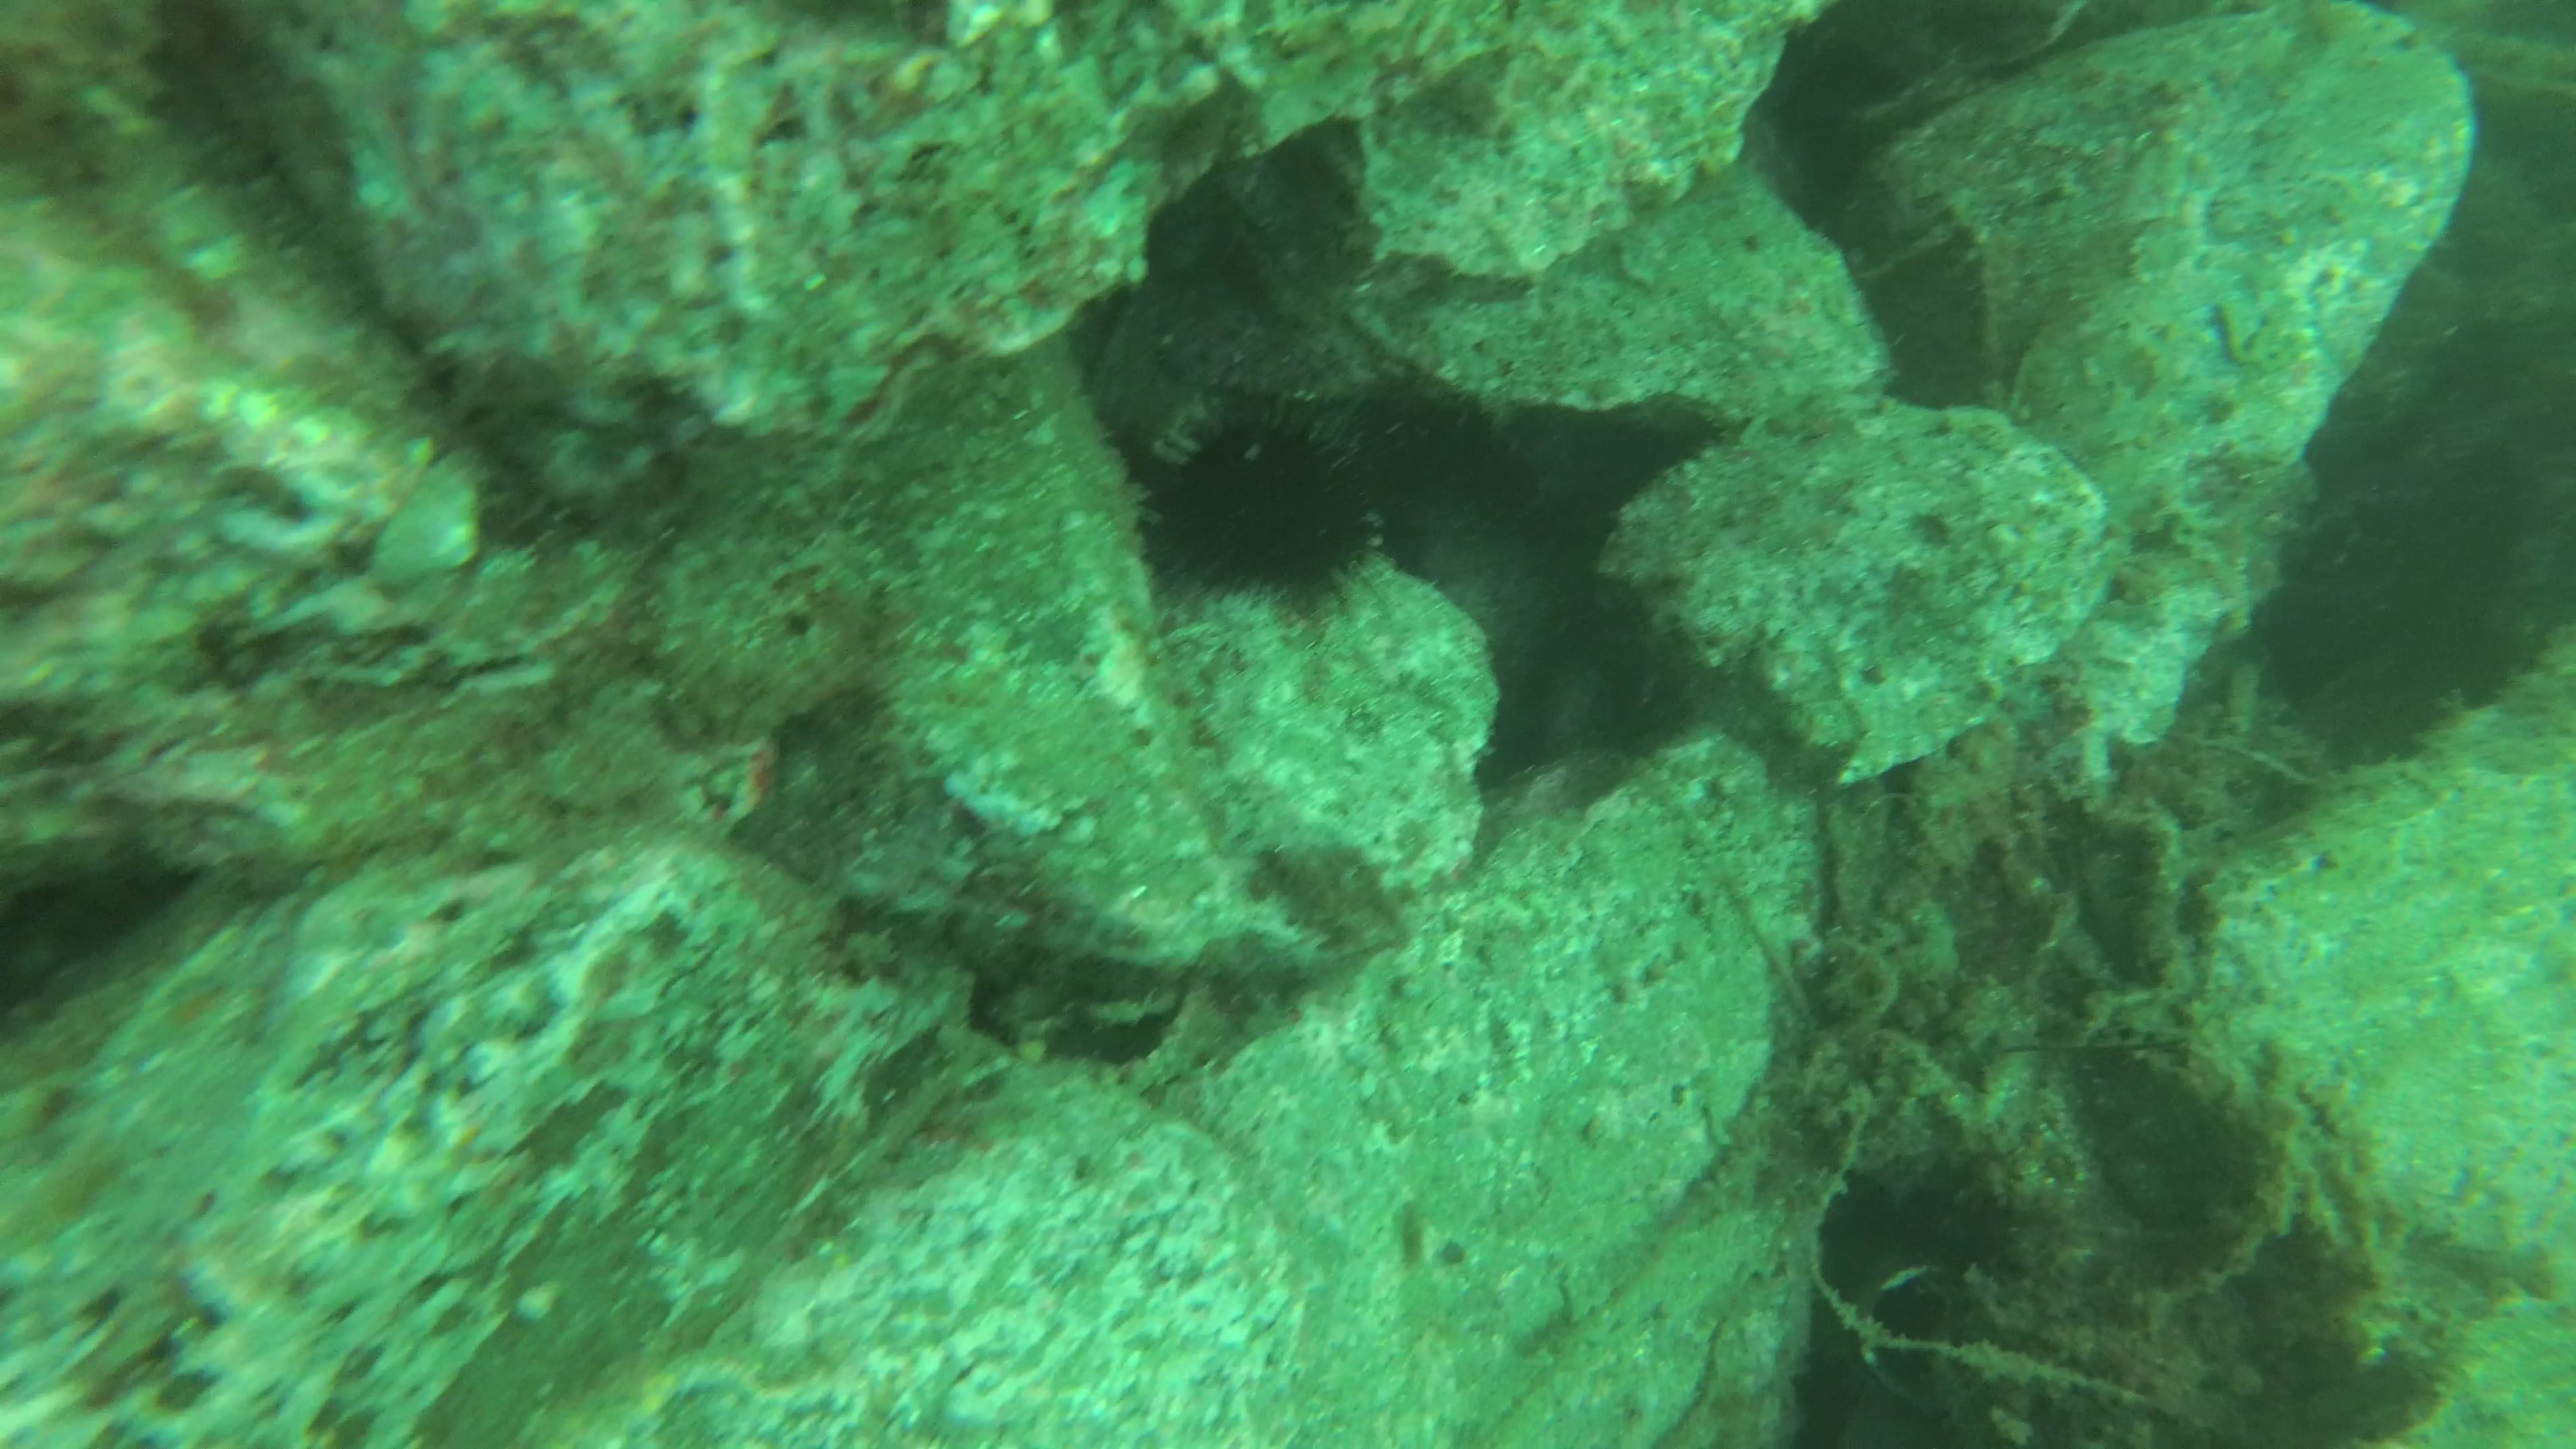echinus: (1125, 393, 1401, 610)
holothurian: (1336, 370, 1548, 531), (1191, 161, 1346, 345), (1134, 303, 1361, 419)
